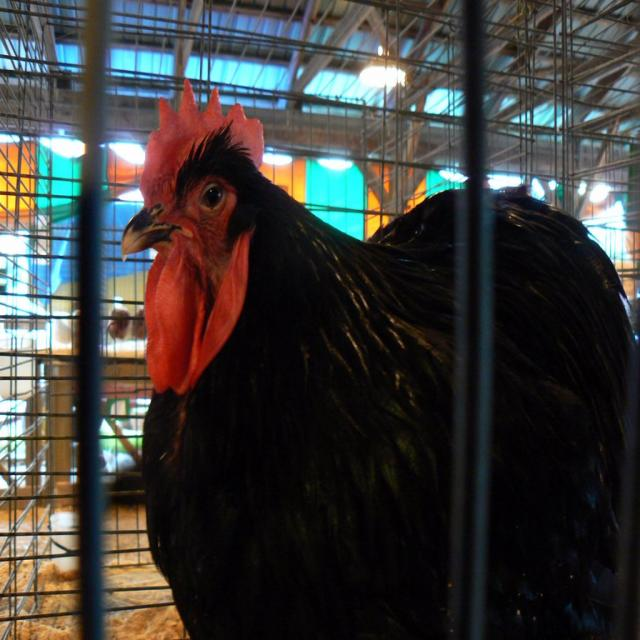Chicken: (131, 90, 597, 631)
